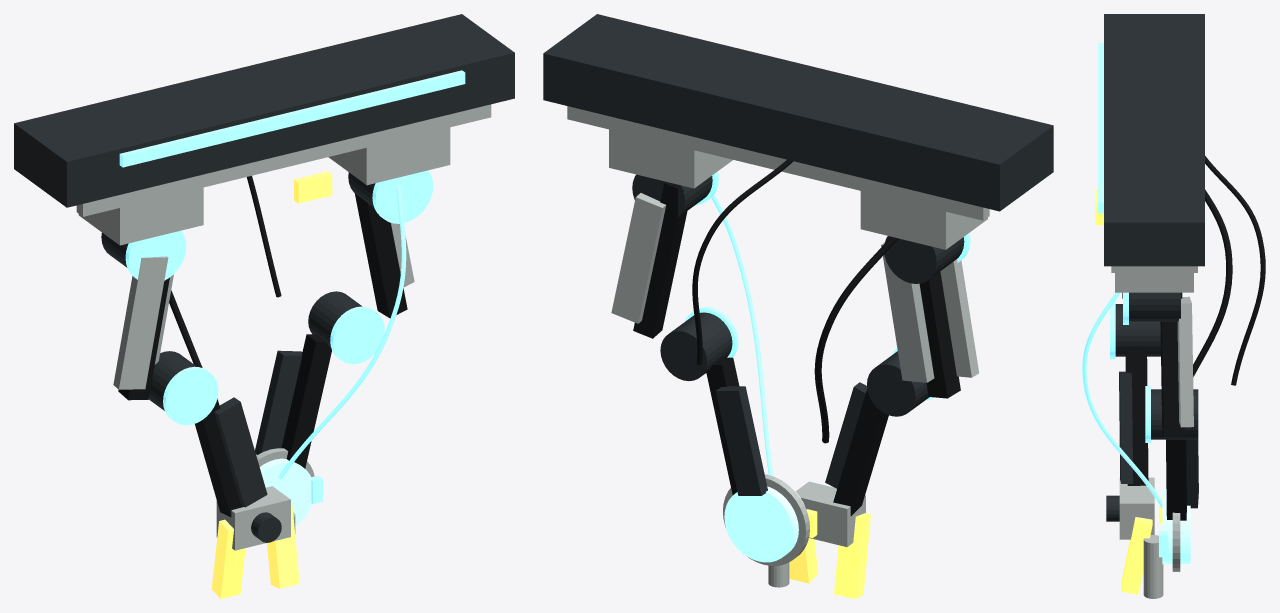
Rendered from hp_hero_maintenance_repair_arm_cluster.glb.
3 renders of one model, left to right at view 1: azimuth 30°, elevation 25°; view 2: azimuth 150°, elevation 25°; view 3: azimuth 270°, elevation 25°, orthographic. The views are drawn at different scales.
Parts seen in each view (by area): view 1: overhead_track_long, overhead_track_inner_rail_left, track_blue_status_lens, clamp_upper_armor_plate_front, sliding_service_carriage_-0.62, sliding_service_carriage_0.62, scanner_lower_black_bone, scanner_upper_black_bone, clamp_lower_outer_armor, scanner_lower_armor_shell, clamp_elbow_blue_bearing, scanner_elbow_blue_bearing (+14 smaller); view 2: overhead_track_long, overhead_track_inner_rail_right, scanner_cyan_lens_large, sliding_service_carriage_-0.62, sliding_service_carriage_0.62, scanner_upper_armor_shell, clamp_upper_armor_plate_back, scanner_lower_armor_shell, scanner_upper_black_bone, scanner_elbow_joint, clamp_lower_black_bone, clamp_upper_black_bone (+13 smaller); view 3: overhead_track_long, clamp_lower_black_bone, scanner_upper_black_bone, sliding_service_carriage_0.62, scanner_upper_armor_shell, scanner_lower_black_bone, clamp_elbow_joint, clamp_tool_body, shoulder_joint_0.62, clamp_lower_outer_armor, ceiling_loose_service_hose, clamp_right_jaw (+11 smaller).
Part boxes in pixels (bbox=[...]): overhead_track_long: bbox=[14, 14, 514, 207]; overhead_track_inner_rail_left: bbox=[76, 104, 491, 216]; track_blue_status_lens: bbox=[119, 70, 465, 167]; clamp_upper_armor_plate_front: bbox=[113, 256, 168, 389]; sliding_service_carriage_-0.62: bbox=[78, 187, 203, 245]; sliding_service_carriage_0.62: bbox=[328, 127, 450, 185]; scanner_lower_black_bone: bbox=[281, 334, 331, 468]; scanner_upper_black_bone: bbox=[355, 193, 407, 318]; clamp_lower_outer_armor: bbox=[214, 397, 267, 507]; scanner_lower_armor_shell: bbox=[255, 350, 302, 454]; clamp_elbow_blue_bearing: bbox=[163, 366, 218, 425]; scanner_elbow_blue_bearing: bbox=[330, 306, 384, 364]; overhead_track_long: bbox=[543, 14, 1053, 211]; overhead_track_inner_rail_right: bbox=[567, 106, 989, 220]; scanner_cyan_lens_large: bbox=[724, 486, 804, 562]; sliding_service_carriage_-0.62: bbox=[860, 191, 987, 249]; sliding_service_carriage_0.62: bbox=[609, 129, 732, 188]; scanner_upper_armor_shell: bbox=[611, 193, 666, 323]; clamp_upper_armor_plate_back: bbox=[881, 243, 934, 382]; scanner_lower_armor_shell: bbox=[716, 386, 767, 495]; scanner_upper_black_bone: bbox=[633, 183, 687, 338]; scanner_elbow_joint: bbox=[660, 312, 732, 380]; clamp_lower_black_bone: bbox=[833, 389, 888, 516]; clamp_upper_black_bone: bbox=[919, 271, 960, 398]; overhead_track_long: bbox=[1104, 14, 1204, 266]; clamp_lower_black_bone: bbox=[1125, 349, 1148, 485]; scanner_upper_black_bone: bbox=[1160, 292, 1184, 436]; sliding_service_carriage_0.62: bbox=[1115, 266, 1193, 292]; scanner_upper_armor_shell: bbox=[1177, 296, 1193, 427]; scanner_lower_black_bone: bbox=[1166, 439, 1186, 520]; clamp_elbow_joint: bbox=[1115, 304, 1160, 356]; clamp_tool_body: bbox=[1119, 477, 1154, 539]; shoulder_joint_0.62: bbox=[1129, 292, 1180, 321]; clamp_lower_outer_armor: bbox=[1119, 371, 1133, 483]; ceiling_loose_service_hose: bbox=[1205, 156, 1265, 385]; clamp_right_jaw: bbox=[1121, 517, 1152, 594].
Bounding box in the file's own units: 2.25 × 2.35 × 0.8367.
